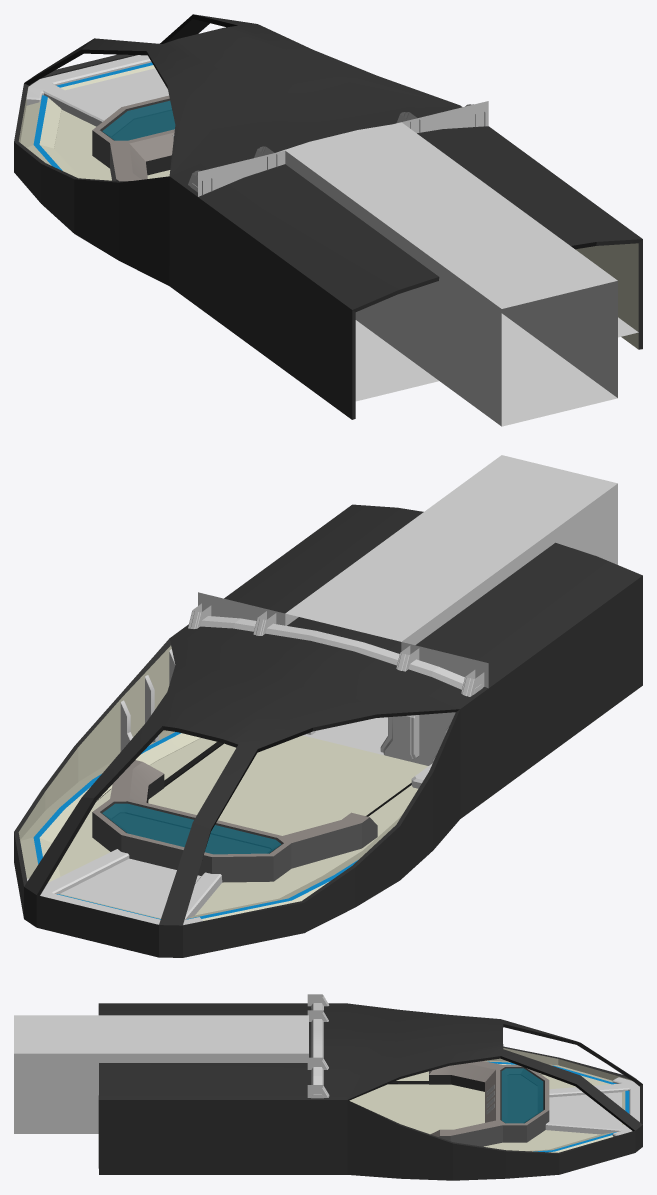
File: MainMenu_InteriorColored1.fbx
3 renders of one model, top to bottom at view 1: azimuth 30°, elevation 25°; view 2: azimuth 150°, elevation 25°; view 3: azimuth 270°, elevation 25°, orthographic. The views are drawn at different scales.
Visible parts, largest first — view 1: polySurface17, pCube20, polySurface4, group9_pCube23, pPlane1, pasted__polySurface13; view 2: polySurface17, pCube20, pPlane1, pasted__polySurface13, group13_pCylinder1, group9_pCube23, pCube31; view 3: polySurface17, pCube20, pasted__polySurface13, group9_pCube23, pPlane1, group13_pCylinder1.
Boxes of the visible parts, x1,y1,x2,y2 form: polySurface17: (14, 14, 642, 419); pCube20: (198, 101, 617, 426); polySurface4: (355, 317, 638, 401); group9_pCube23: (26, 55, 151, 126); pPlane1: (65, 68, 168, 114); pasted__polySurface13: (102, 101, 174, 140); polySurface17: (14, 504, 642, 957); pCube20: (198, 455, 617, 765); pPlane1: (60, 858, 201, 918); pasted__polySurface13: (102, 804, 280, 853); group13_pCylinder1: (200, 616, 482, 694); group9_pCube23: (27, 849, 222, 924); pCube31: (396, 645, 419, 759); polySurface17: (98, 1003, 642, 1180); pCube20: (14, 1015, 308, 1133); pasted__polySurface13: (502, 1068, 542, 1122); group9_pCube23: (545, 1077, 639, 1136); pPlane1: (549, 1092, 621, 1124); group13_pCylinder1: (311, 1003, 323, 1098).
Size of the model in its own units: 1641 by 650 by 4027.
